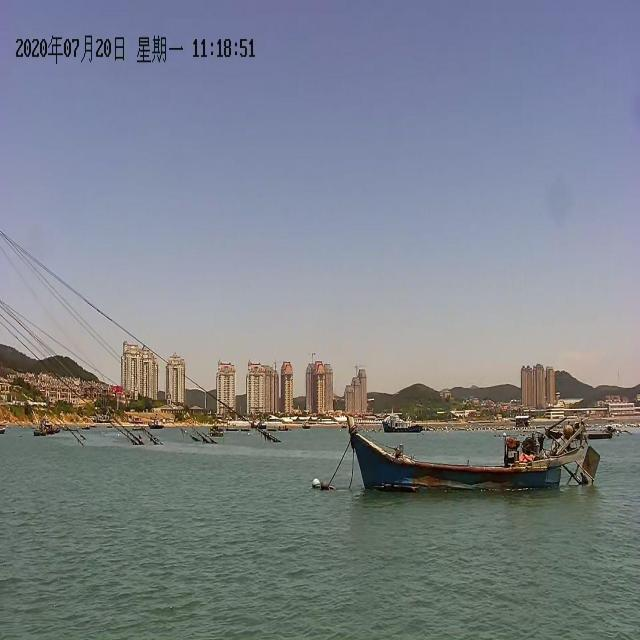CIV_Ship: (344, 411, 608, 496), (378, 412, 423, 437), (30, 414, 60, 434)
